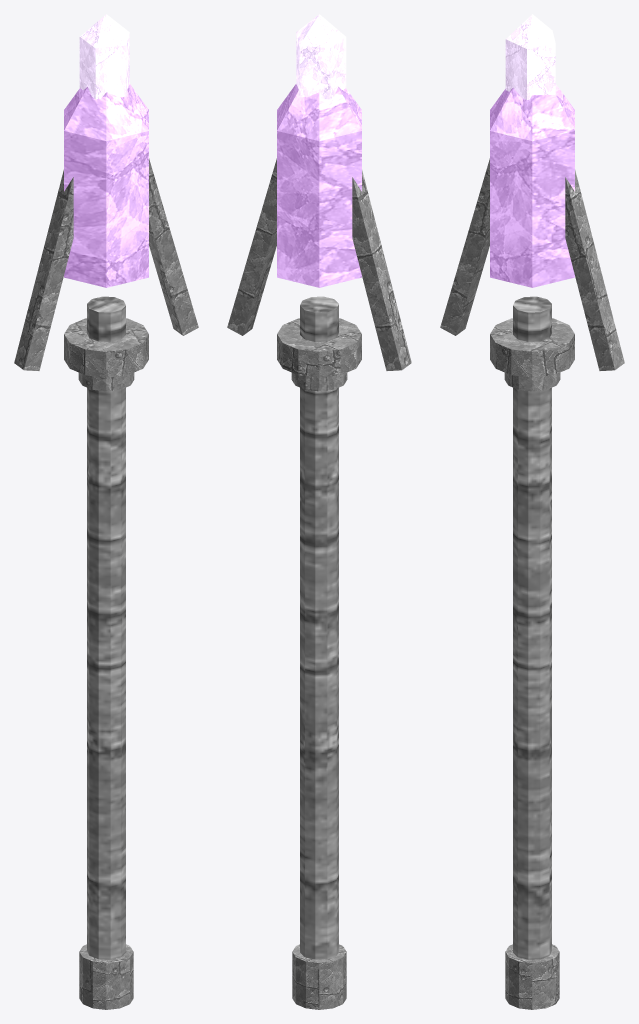
The model's file is staff-seidr-crystal.glb.
3 views of the same model, side by side, from view 1: azimuth 30°, elevation 25°; view 2: azimuth 150°, elevation 25°; view 3: azimuth 330°, elevation 25° (orthographic).
Parts seen in each view (by area): view 1: shaft, spear, fork-left, binding, tip, fork-right, pommel, neck; view 2: shaft, spear, fork-left, binding, tip, fork-right, pommel, neck; view 3: shaft, spear, fork-right, binding, tip, fork-left, pommel, neck.
Boxes of the visible parts, left/top/right/bottom form: shaft: left=87, top=296, right=125, bottom=959; spear: left=64, top=84, right=148, bottom=287; fork-left: left=14, top=170, right=73, bottom=370; binding: left=64, top=318, right=148, bottom=377; tip: left=79, top=14, right=129, bottom=99; fork-right: left=149, top=158, right=198, bottom=335; pommel: left=79, top=944, right=133, bottom=1009; neck: left=78, top=373, right=134, bottom=391; shaft: left=300, top=296, right=338, bottom=959; spear: left=277, top=84, right=361, bottom=287; fork-left: left=352, top=170, right=411, bottom=370; binding: left=277, top=318, right=361, bottom=377; tip: left=296, top=14, right=346, bottom=99; fork-right: left=227, top=158, right=276, bottom=335; pommel: left=292, top=944, right=346, bottom=1009; neck: left=291, top=373, right=347, bottom=391; shaft: left=513, top=296, right=551, bottom=959; spear: left=490, top=84, right=574, bottom=287; fork-right: left=565, top=170, right=624, bottom=370; binding: left=490, top=318, right=574, bottom=377; tip: left=505, top=14, right=555, bottom=99; fork-left: left=440, top=158, right=489, bottom=335; pommel: left=505, top=944, right=559, bottom=1009; neck: left=504, top=373, right=560, bottom=391.
Size of the model in its own units: 0.3904 by 2.1 by 0.1645.
Materials: 4 (4 with a texture image).
